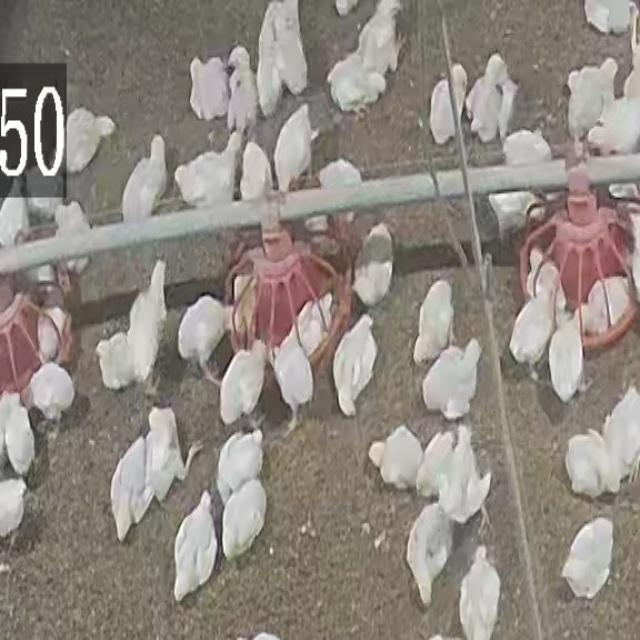chicken: (443, 422, 499, 533), (124, 257, 170, 385), (495, 132, 554, 231), (171, 490, 220, 601), (564, 58, 620, 154), (420, 338, 483, 422), (174, 132, 239, 212), (331, 315, 378, 419), (507, 281, 557, 378), (405, 501, 451, 606), (177, 296, 230, 386), (270, 326, 316, 428), (560, 517, 614, 602), (109, 434, 151, 543), (218, 339, 268, 430), (466, 52, 514, 144), (120, 135, 168, 224), (214, 426, 266, 508), (219, 477, 268, 562), (458, 547, 502, 640), (324, 52, 387, 116), (144, 404, 186, 499), (356, 0, 404, 83), (306, 161, 360, 234), (547, 307, 587, 405), (368, 424, 424, 492), (602, 386, 640, 486), (564, 429, 617, 500), (352, 215, 395, 302), (412, 278, 454, 364), (273, 103, 313, 189), (52, 200, 94, 277), (254, 0, 282, 115), (26, 361, 76, 425), (581, 274, 631, 338), (66, 108, 114, 174), (274, 0, 307, 95), (1, 392, 36, 479), (187, 54, 231, 123), (225, 46, 259, 132), (588, 97, 640, 153), (527, 242, 567, 314), (94, 332, 138, 394), (417, 429, 455, 498), (295, 292, 333, 356), (239, 145, 271, 215), (0, 176, 32, 246), (428, 75, 459, 147), (0, 476, 30, 541), (502, 129, 551, 167), (583, 0, 635, 35), (39, 302, 71, 354), (450, 63, 468, 121)
